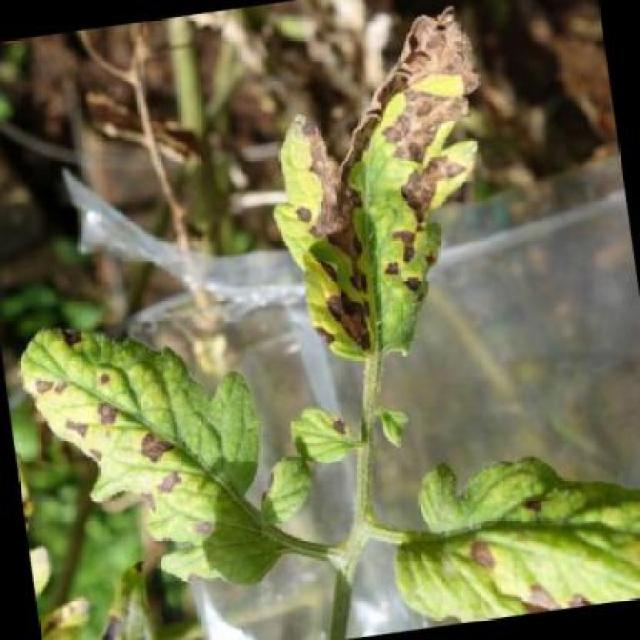Septoria leaf spot: (251, 1, 534, 384), (6, 289, 324, 623), (368, 424, 640, 633)
